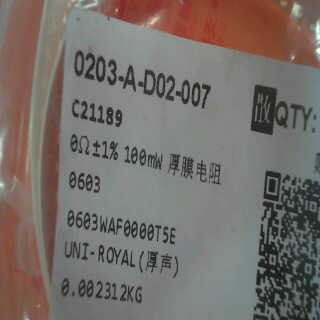0R: (64, 134, 131, 191)
